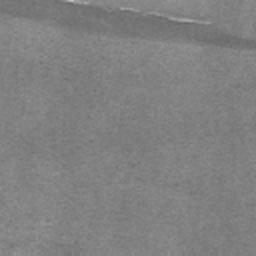Finishing roll printing: (0, 0, 256, 50)
